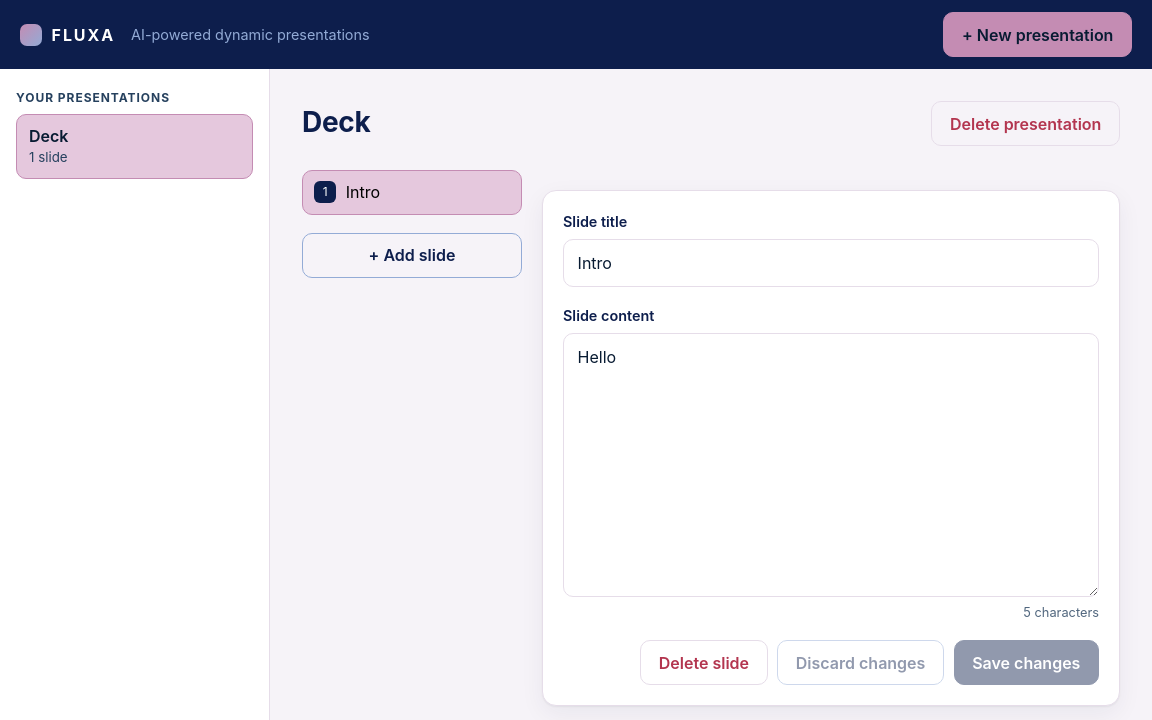
Test: Discard changes restores the saved text
Type " extra" into the field labelled "Slide title" at (831, 263), box [563,239,1099,287]
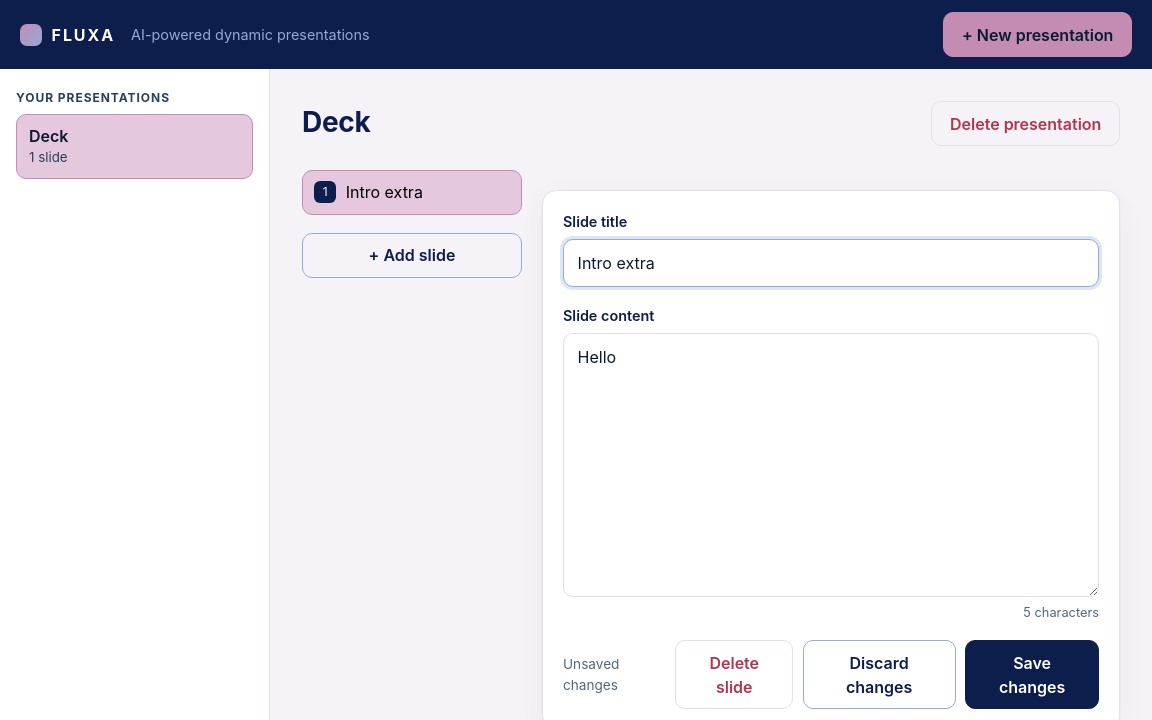
Now the field labelled "Slide title" holds "Intro extra", box [563,239,1099,287]
Click the button "Discard changes" at (879, 675), box [803,640,956,709]
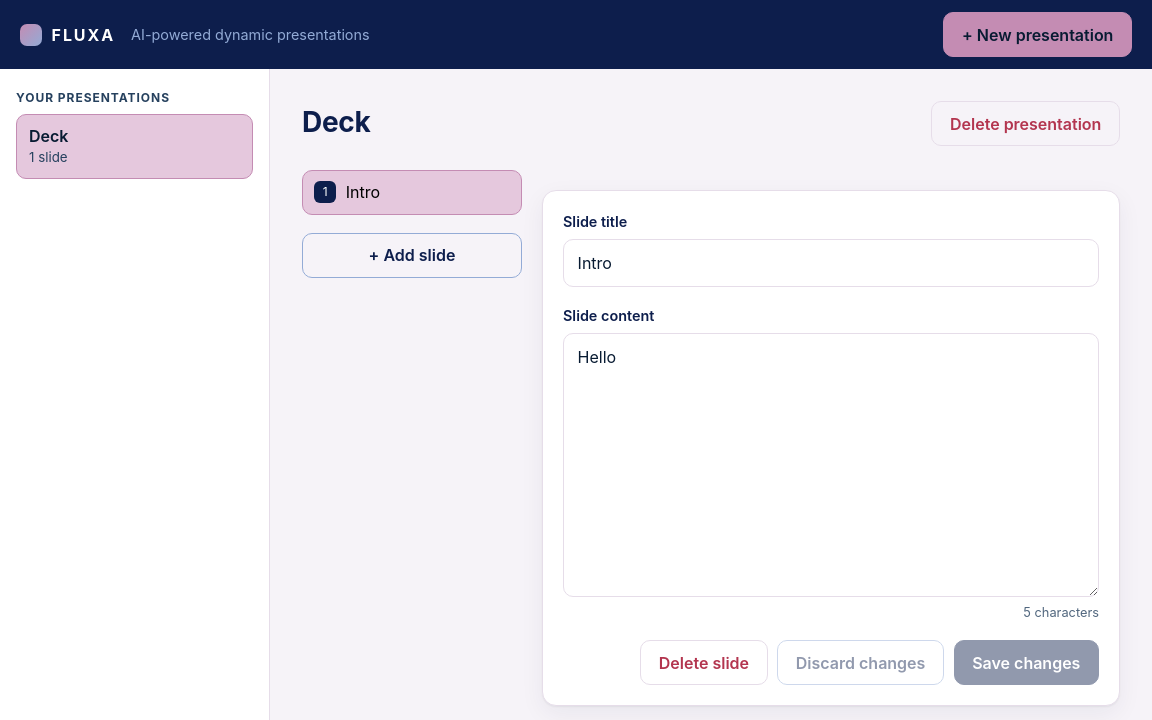
Now the field labelled "Slide title" holds "Intro", box [563,239,1099,287]
Now the button "Save changes" is disabled, box [954,640,1099,685]
